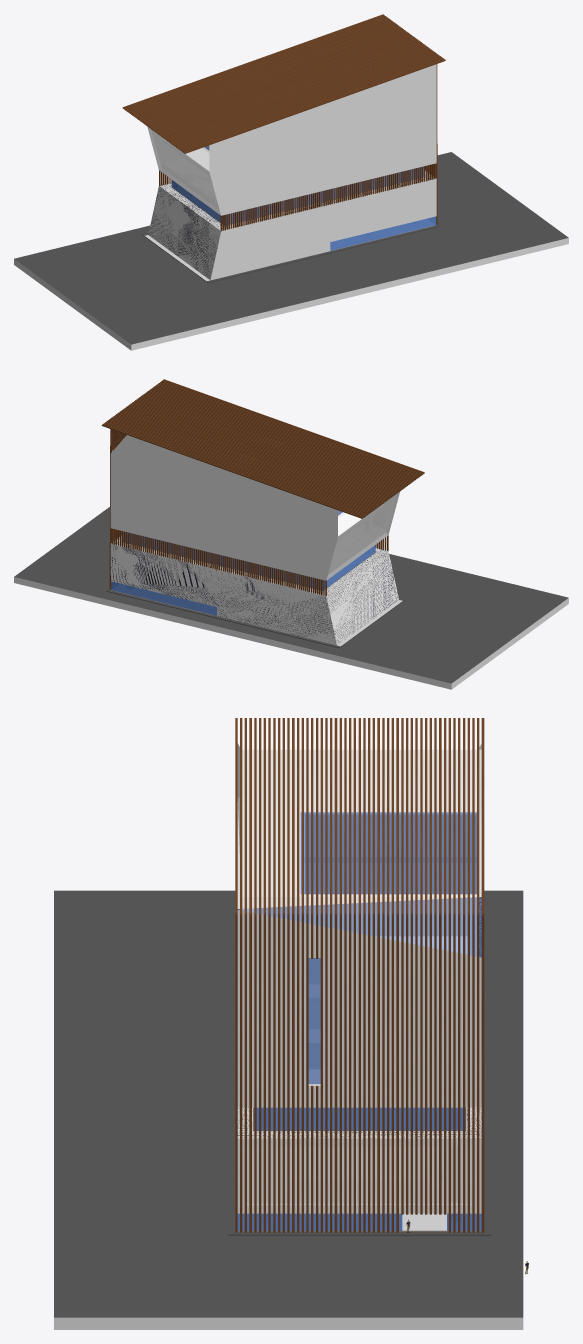
The model's file is BITCHASS.dae.
The picture shows the model from 3 angles, top to bottom: view 1: azimuth 30°, elevation 25°; view 2: azimuth 150°, elevation 25°; view 3: azimuth 270°, elevation 25°; orthographic projection. The views are drawn at different scales.
Visible parts, largest first — view 1: SketchUp (×63); view 2: SketchUp (×63); view 3: SketchUp (×68).
Boxes of the visible parts, x1=… form: SketchUp (×63): x1=14, y1=14, x2=568, y2=350; SketchUp (×63): x1=14, y1=379, x2=568, y2=689; SketchUp (×68): x1=54, y1=718, x2=523, y2=1329.
Size of the model in its own units: 4872 by 2291 by 1810.
